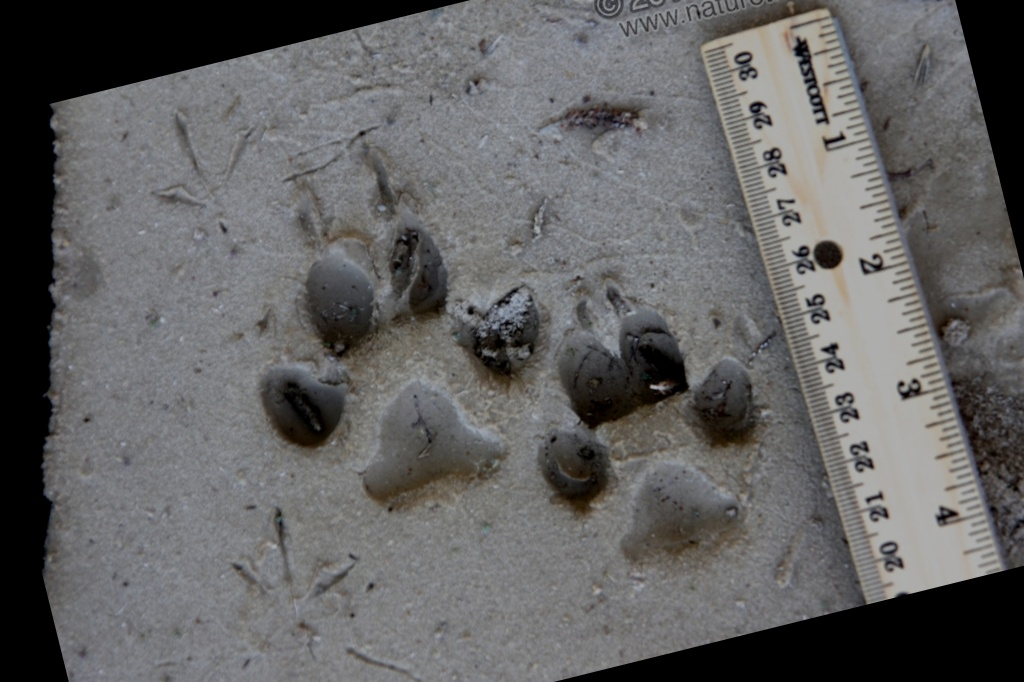coyote: (211, 122, 578, 527), (502, 258, 794, 593)
